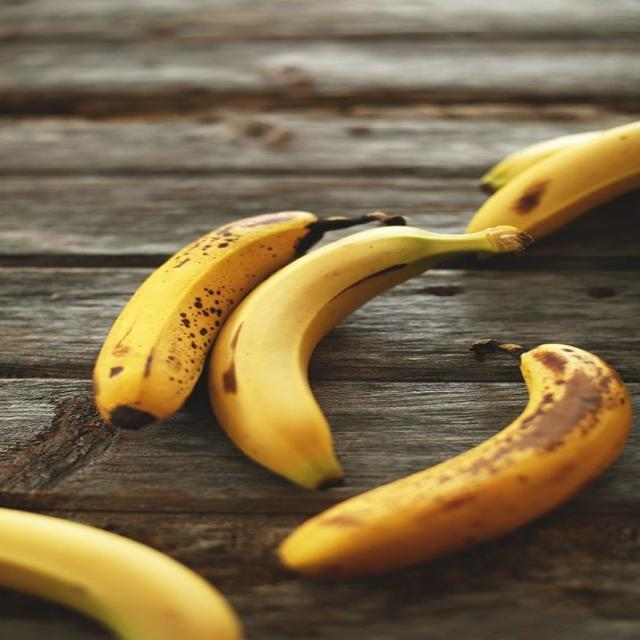unpeal banana: (209, 227, 529, 488), (279, 341, 630, 577), (94, 212, 386, 428), (0, 509, 242, 639), (467, 122, 639, 239), (479, 131, 601, 193)
